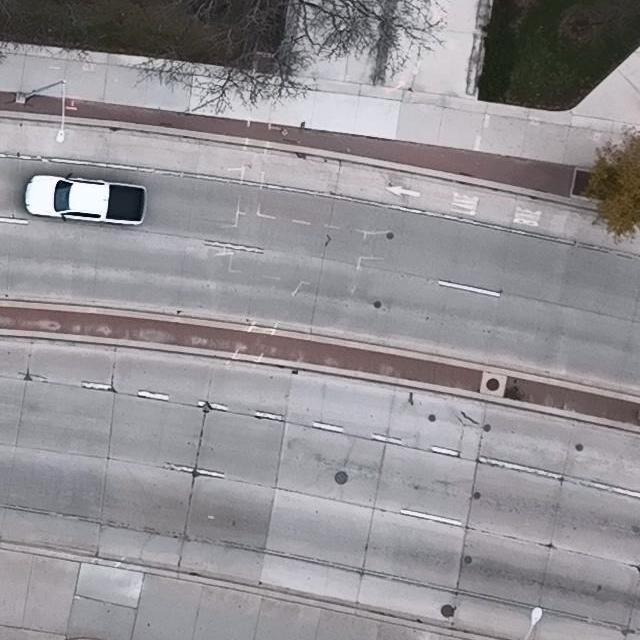car: (24, 173, 148, 227)
